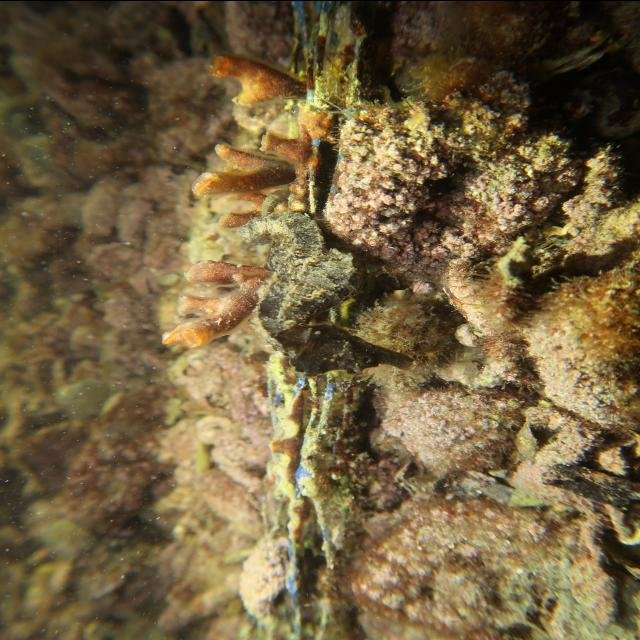Hippo: (284, 318, 420, 381)
